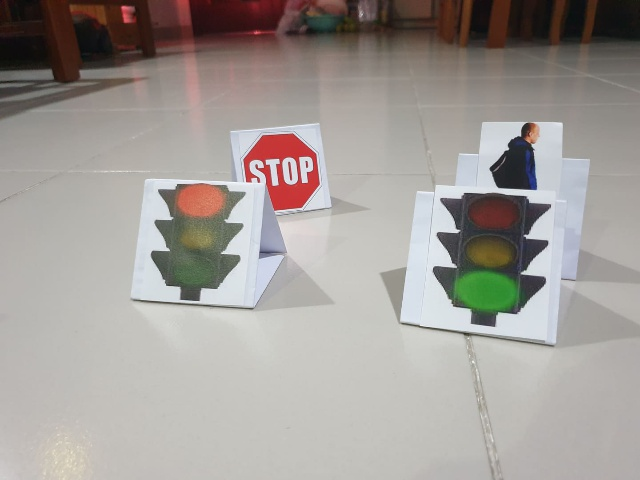Green: (436, 186, 545, 337)
Person: (480, 120, 553, 189)
Red: (154, 179, 244, 299)
Stop: (237, 127, 321, 212)
